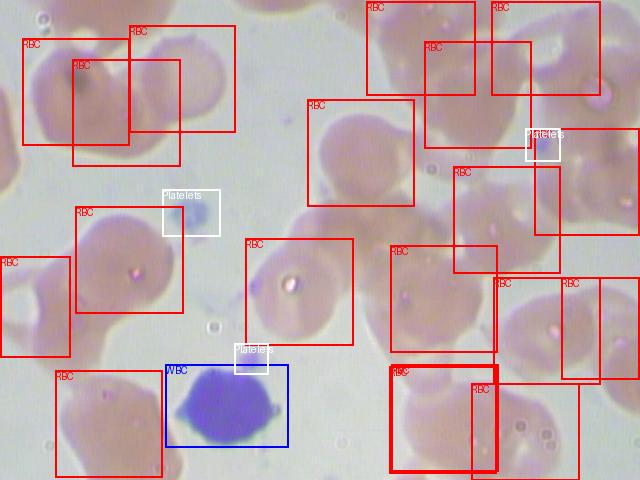Platelets: (162, 189, 220, 236), (525, 128, 560, 161), (234, 343, 268, 374)
RBC: (75, 206, 183, 313), (245, 238, 353, 345), (72, 59, 180, 166), (307, 99, 414, 206), (22, 38, 129, 145), (55, 370, 162, 477), (493, 277, 600, 384), (453, 166, 560, 273), (390, 245, 497, 352), (389, 366, 496, 473), (391, 364, 498, 471), (424, 41, 531, 148), (129, 25, 235, 132), (534, 128, 639, 235), (471, 383, 579, 480), (491, 1, 600, 95), (366, 1, 475, 95), (561, 277, 639, 379), (0, 256, 70, 357)
WBC: (165, 364, 288, 447)
